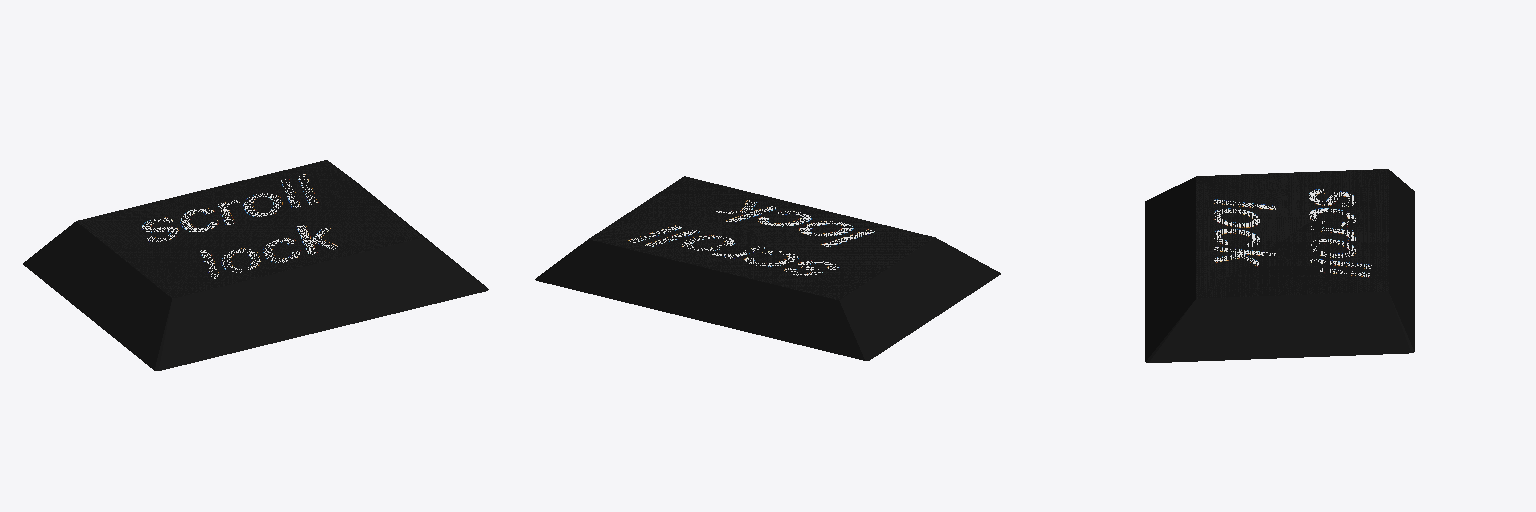
3 views of the same model, side by side, from view 1: azimuth 30°, elevation 25°; view 2: azimuth 150°, elevation 25°; view 3: azimuth 270°, elevation 25° (orthographic).
Parts seen in each view (by area): view 1: Group96/mesh88/mesh88-geometry#mesh88-geometry; view 2: Group96/mesh88/mesh88-geometry#mesh88-geometry; view 3: Group96/mesh88/mesh88-geometry#mesh88-geometry.
Part boxes in pixels (left/top/right/bottom): Group96/mesh88/mesh88-geometry#mesh88-geometry: left=23, top=160, right=488, bottom=370; Group96/mesh88/mesh88-geometry#mesh88-geometry: left=535, top=176, right=1000, bottom=360; Group96/mesh88/mesh88-geometry#mesh88-geometry: left=1145, top=169, right=1414, bottom=362.
Size of the model in its own units: 0.0754 by 0.0111 by 0.0525.
2 materials, 1 textured.